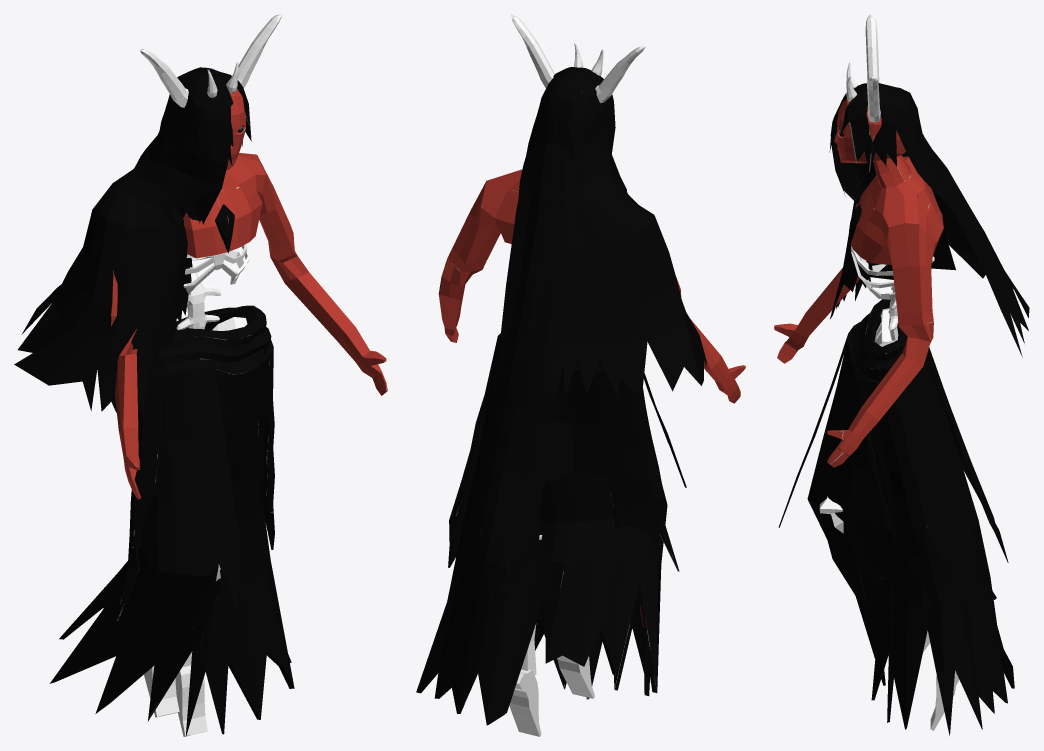
File: cursedqueenattack_23.fbx
3 views of the same model, side by side, from view 1: azimuth 30°, elevation 25°; view 2: azimuth 150°, elevation 25°; view 3: azimuth 270°, elevation 25° (orthographic). The views are drawn at different scales.
Visible parts, largest first — view 1: cursed_queen; view 2: cursed_queen; view 3: cursed_queen.
Boxes of the visible parts, box(x1,y1,x2,y2) form: cursed_queen: box(14, 14, 387, 736); cursed_queen: box(416, 14, 745, 736); cursed_queen: box(774, 14, 1029, 735).
Bounding box in the file's own units: 127 × 279 × 96.29.
